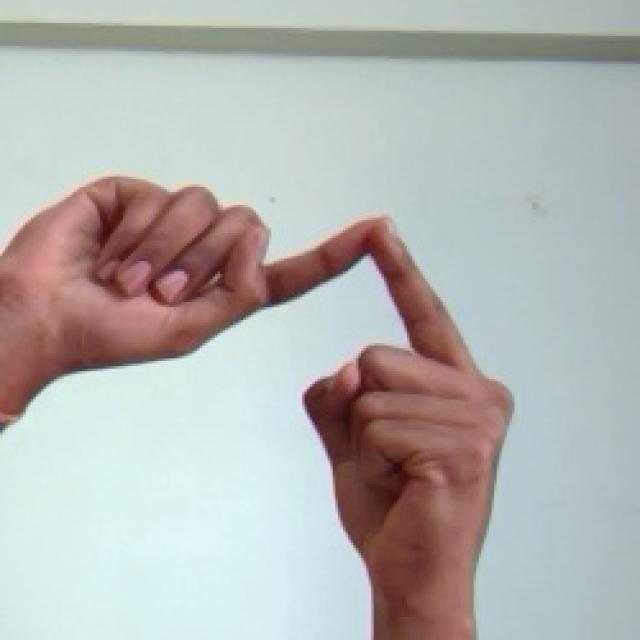Alphabet-E: (1, 177, 515, 639)
